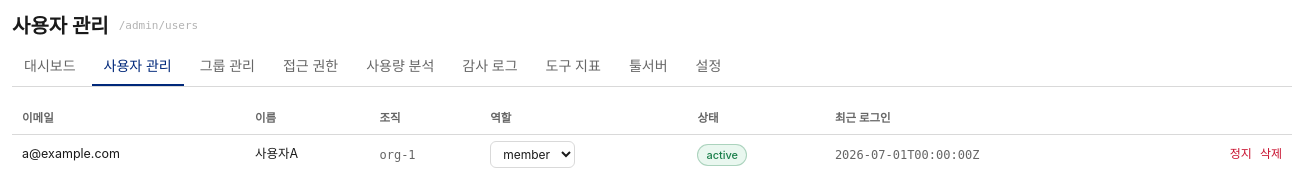
Test case: AdminUsersManager › 정지 버튼 연속 클릭 시 요청이 한 번만 발생하고 처리 중에는 정지 버튼과 역할 select 가 비활성화된다
Expected: the text "a@example.com" is shown, [12,135,245,174]
Click the button with aria-label "정지 (a@example.com)".
click(1241, 154)  # box [1230,146,1252,162]
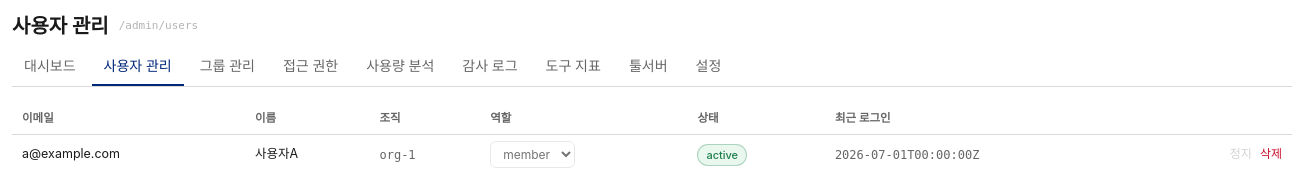
Expected: the button with aria-label "정지 (a@example.com)" is disabled
Expected: the dropdown named "역할 (a@example.com)" is disabled, [490,141,575,168]
처리 중 재클릭 — 이미 pending 이므로 no-op 이어야 한다.
Click the button with aria-label "정지 (a@example.com)".
click(1241, 154)  # box [1230,146,1252,162]
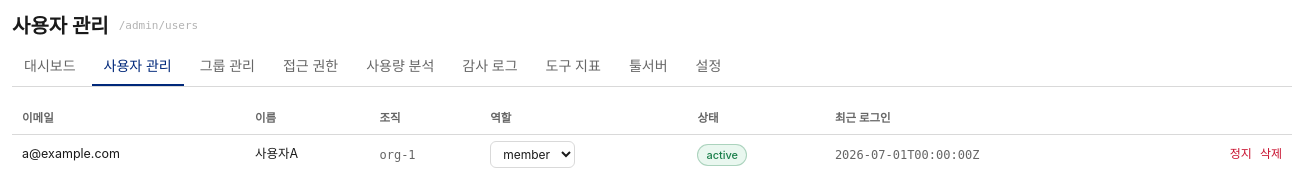
Expected: the button with aria-label "정지 (a@example.com)" is enabled, [1230,146,1252,162]
Expected: the dropdown named "역할 (a@example.com)" is enabled, [490,141,575,168]
